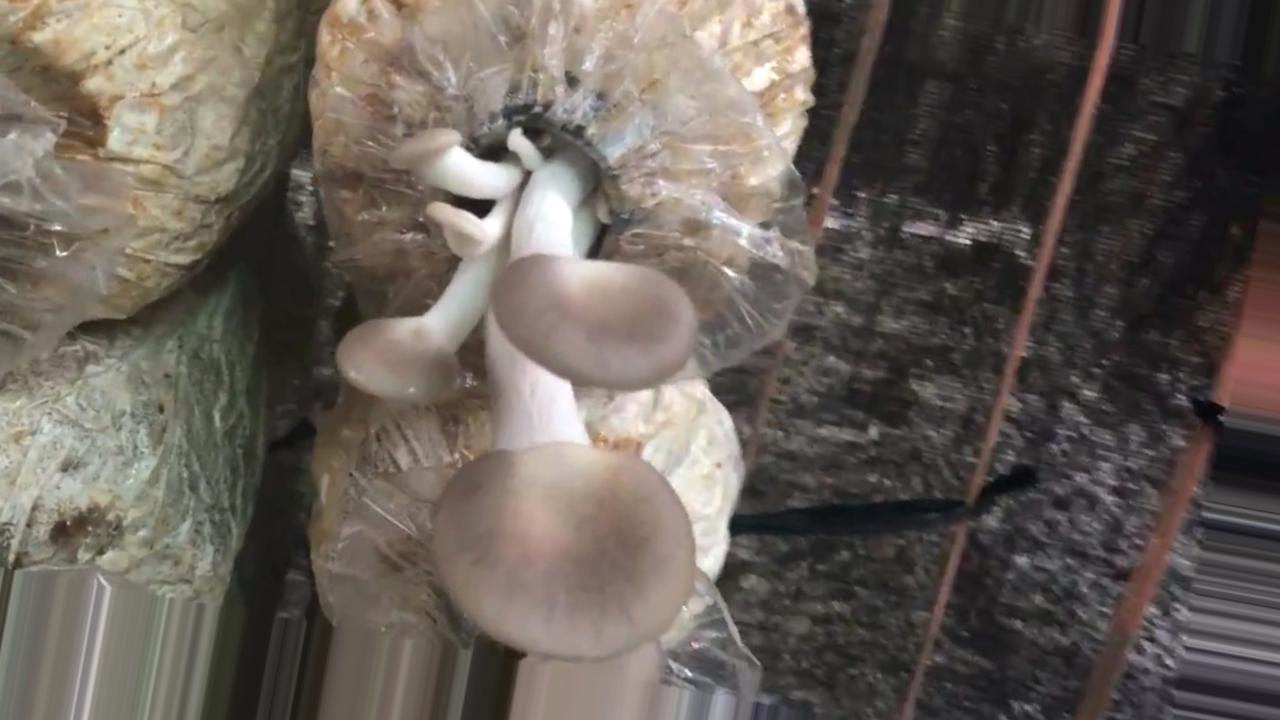nam: (334, 87, 696, 720)
